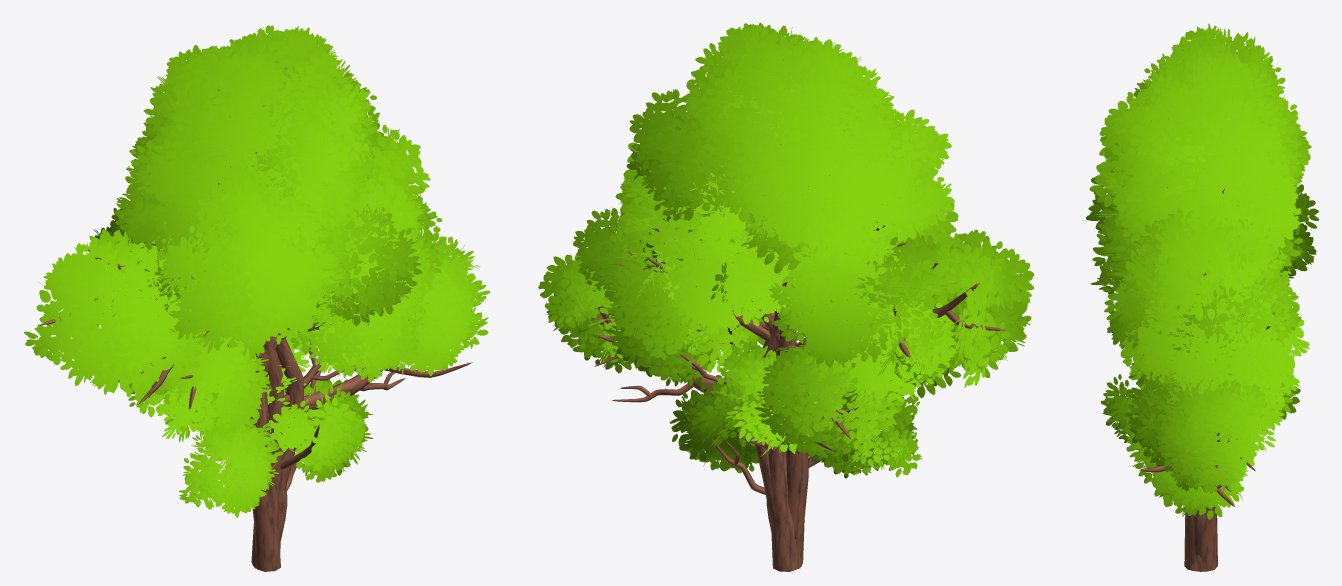
Rendered from trees.glb.
The picture shows the model from 3 angles, left to right: view 1: azimuth 30°, elevation 25°; view 2: azimuth 150°, elevation 25°; view 3: azimuth 270°, elevation 25°; orthographic projection. The views are drawn at different scales.
Visible parts, largest first — view 1: NormalTree_1, NormalTree_3, NormalTree_2, NormalTree_4, NormalTree_5; view 2: NormalTree_1, NormalTree_4, NormalTree_2, NormalTree_3, NormalTree_5; view 3: NormalTree_1, NormalTree_3, NormalTree_2, NormalTree_4, NormalTree_5.
Boxes of the visible parts, x1,y1,x2,y2 form: NormalTree_1: (88, 25, 422, 571); NormalTree_3: (128, 194, 490, 566); NormalTree_2: (93, 61, 430, 563); NormalTree_4: (24, 169, 442, 568); NormalTree_5: (179, 336, 373, 540); NormalTree_1: (626, 22, 954, 566); NormalTree_4: (573, 193, 1034, 571); NormalTree_2: (605, 27, 956, 571); NormalTree_3: (538, 191, 958, 571); NormalTree_5: (670, 338, 921, 530); NormalTree_1: (1104, 24, 1319, 570); NormalTree_3: (1086, 177, 1309, 571); NormalTree_2: (1089, 84, 1302, 571); NormalTree_4: (1120, 249, 1301, 571); NormalTree_5: (1100, 374, 1300, 557).
Size of the model in its own units: 6.22 by 6.87 by 3.
Materials: 2 (2 with a texture image).
